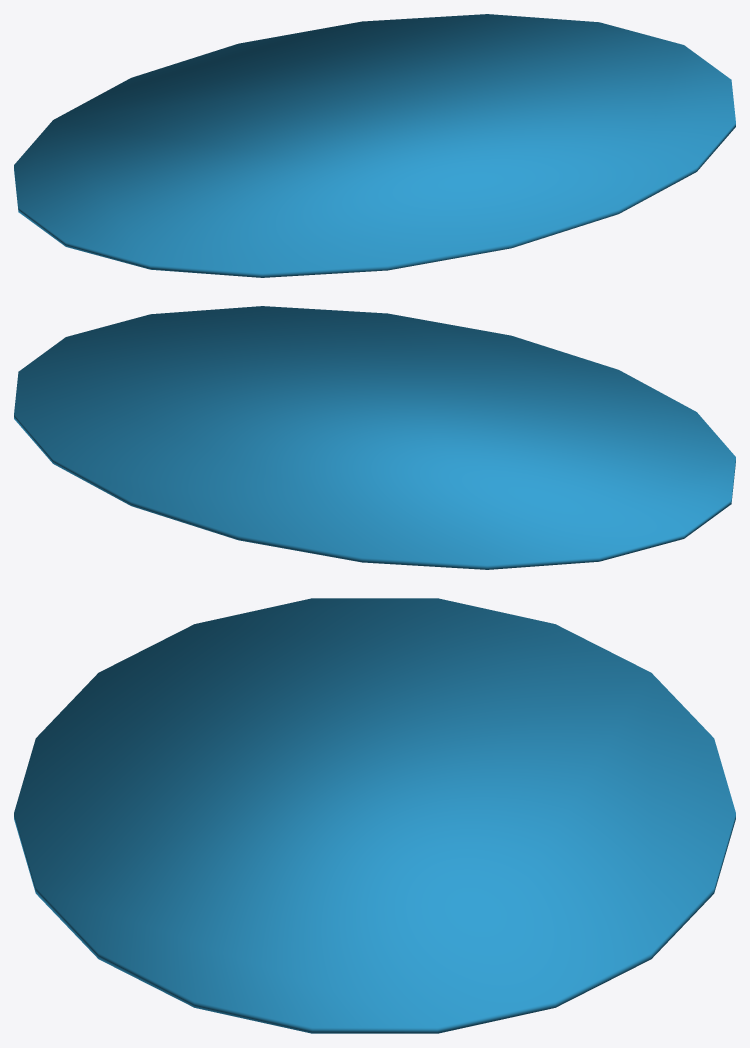
File: puddle.glb
3 renders of one model, top to bottom at view 1: azimuth 30°, elevation 25°; view 2: azimuth 150°, elevation 25°; view 3: azimuth 270°, elevation 25°, orthographic. The views are drawn at different scales.
Parts seen in each view (by area): view 1: puddle; view 2: puddle; view 3: puddle.
Boxes of the visible parts, x1,y1,x2,y2 form: puddle: [14, 14, 735, 277]; puddle: [14, 306, 735, 569]; puddle: [14, 598, 735, 1033].
Bounding box in the file's own units: 1.48 × 0.01 × 1.05.
